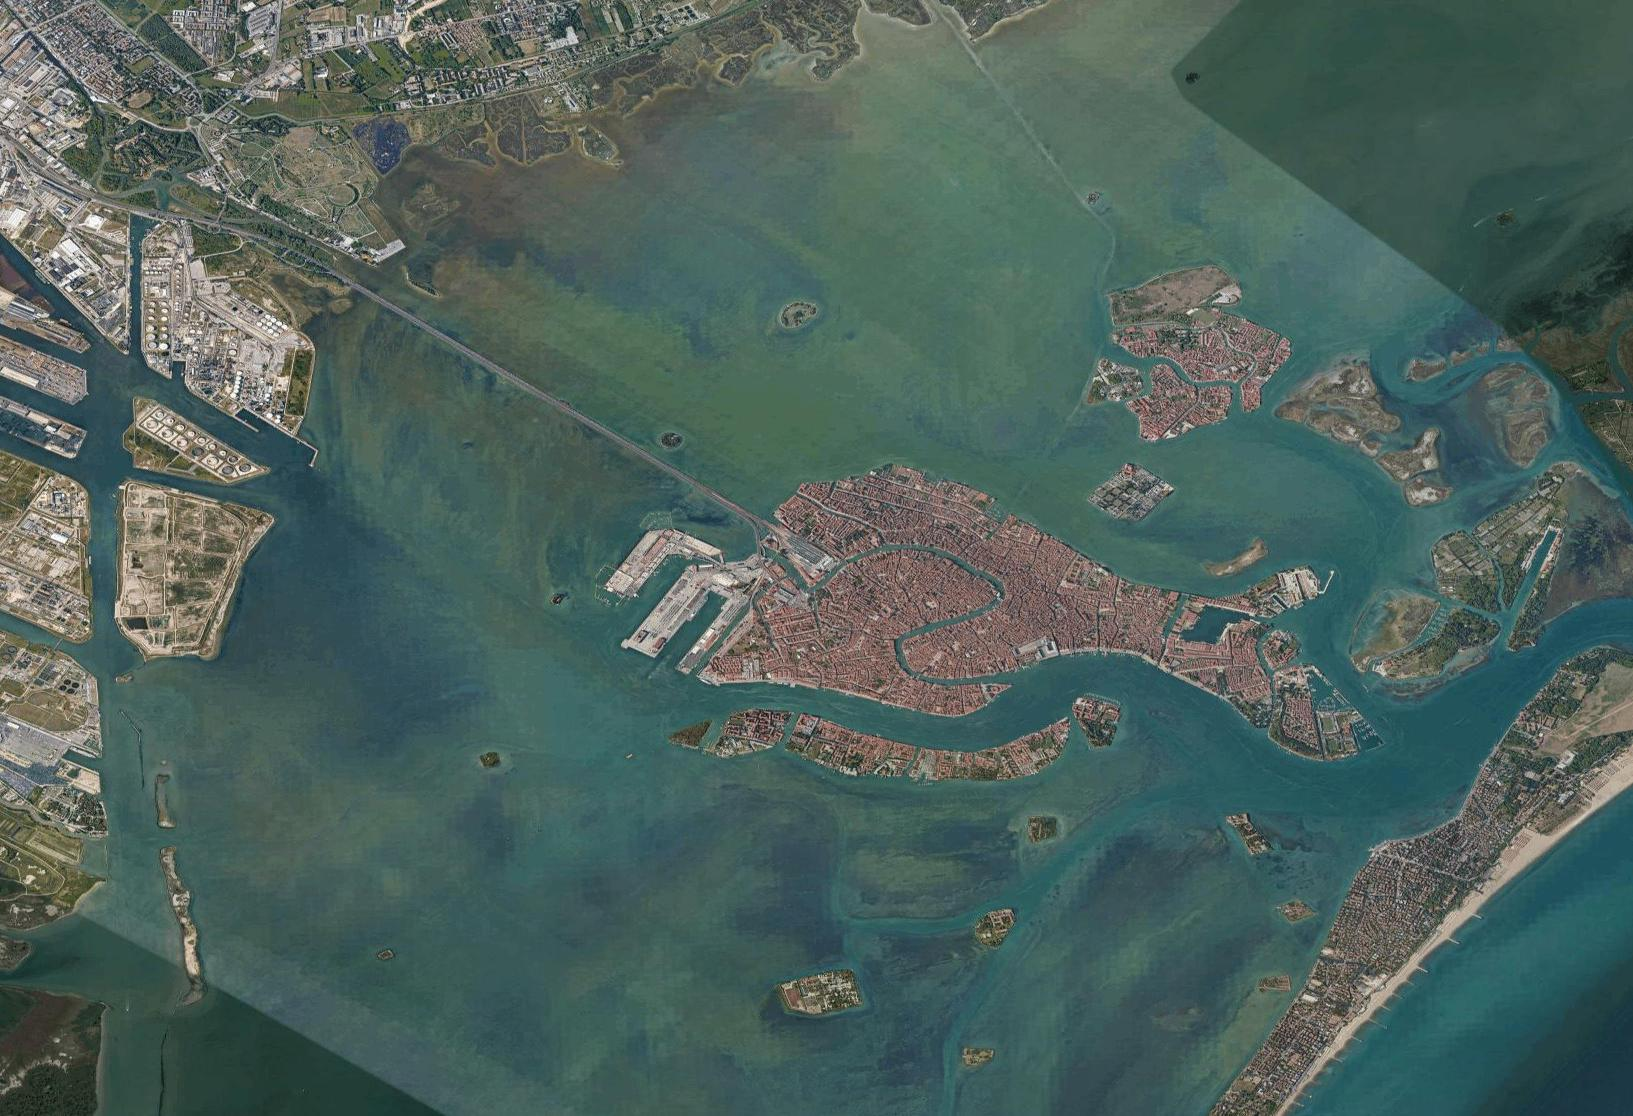bridge: (338, 276, 779, 538)
harbor: (579, 503, 758, 698), (225, 394, 330, 480), (1362, 595, 1459, 680), (1274, 538, 1339, 611)
train_station: (771, 521, 839, 574)
